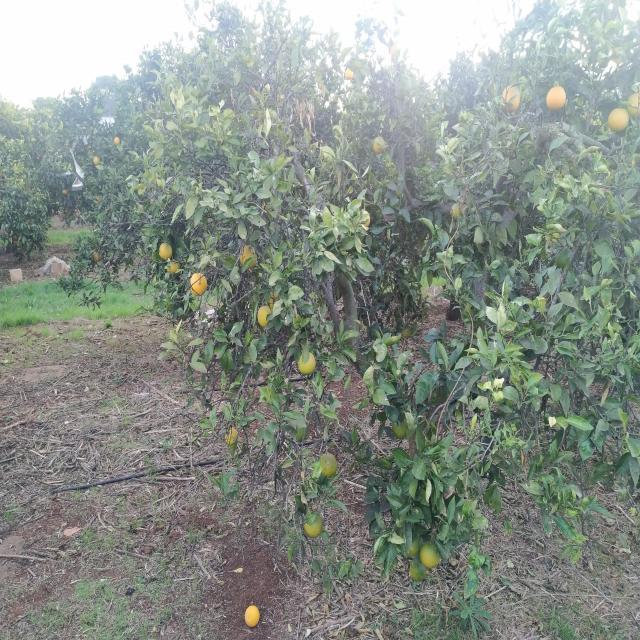Jeruk Belum Matang: (419, 540, 441, 569), (408, 558, 428, 584), (402, 534, 421, 560), (320, 452, 338, 478), (304, 516, 324, 538), (298, 352, 316, 376), (392, 416, 409, 438), (258, 306, 272, 327), (296, 422, 310, 442), (158, 242, 172, 260), (452, 203, 462, 221), (168, 262, 182, 274)
Jeruk Sudah Matang: (608, 106, 630, 132), (546, 86, 566, 110), (503, 86, 521, 110), (244, 604, 260, 630), (190, 273, 207, 296), (239, 246, 256, 268), (628, 93, 640, 117), (225, 428, 238, 446), (374, 136, 386, 154), (345, 68, 354, 80), (92, 156, 100, 166), (92, 252, 100, 262), (114, 137, 120, 146), (62, 190, 66, 194)
